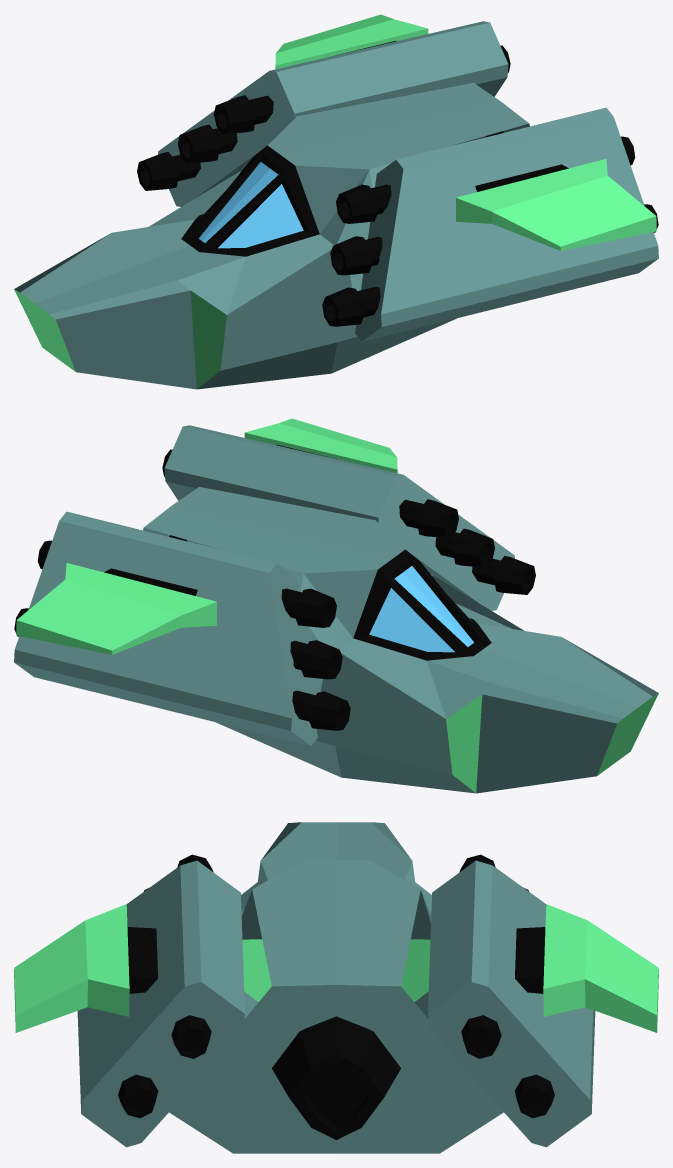
The model's file is gunship4.fbx.
3 views of the same model, one above another, from view 1: azimuth 30°, elevation 25°; view 2: azimuth 150°, elevation 25°; view 3: azimuth 270°, elevation 25° (orthographic). The views are drawn at different scales.
Visible parts, largest first — view 1: Gunship4; view 2: Gunship4; view 3: Gunship4.
Boxes of the visible parts, bbox=[...] form: Gunship4: bbox=[14, 14, 658, 389]; Gunship4: bbox=[14, 418, 658, 793]; Gunship4: bbox=[14, 822, 658, 1153].
Bounding box in the file's own units: 577 × 227 × 521.
